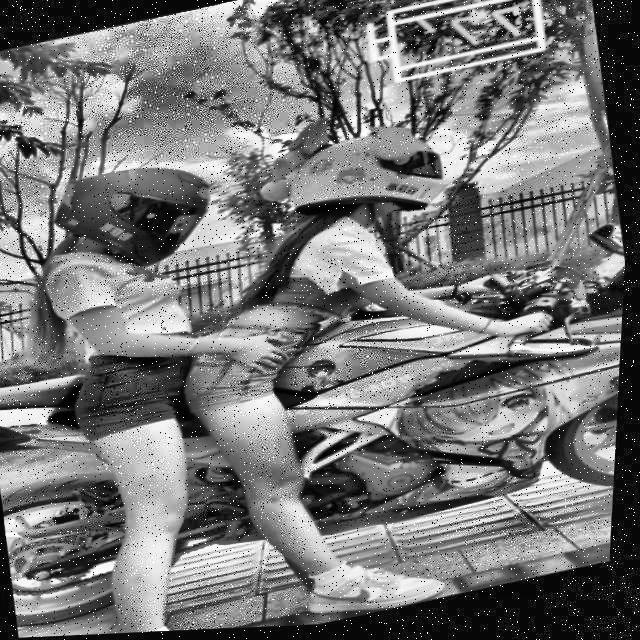Helmet: (42, 146, 236, 290), (276, 116, 468, 245)
